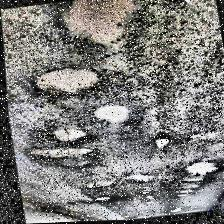pothole: (52, 0, 152, 64), (29, 61, 106, 100), (26, 140, 94, 168), (91, 102, 133, 132), (181, 158, 223, 182), (48, 122, 86, 146), (152, 136, 170, 156)
